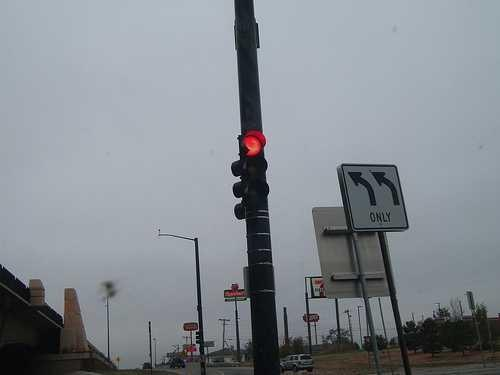red: (235, 129, 270, 214), (238, 133, 264, 160)
